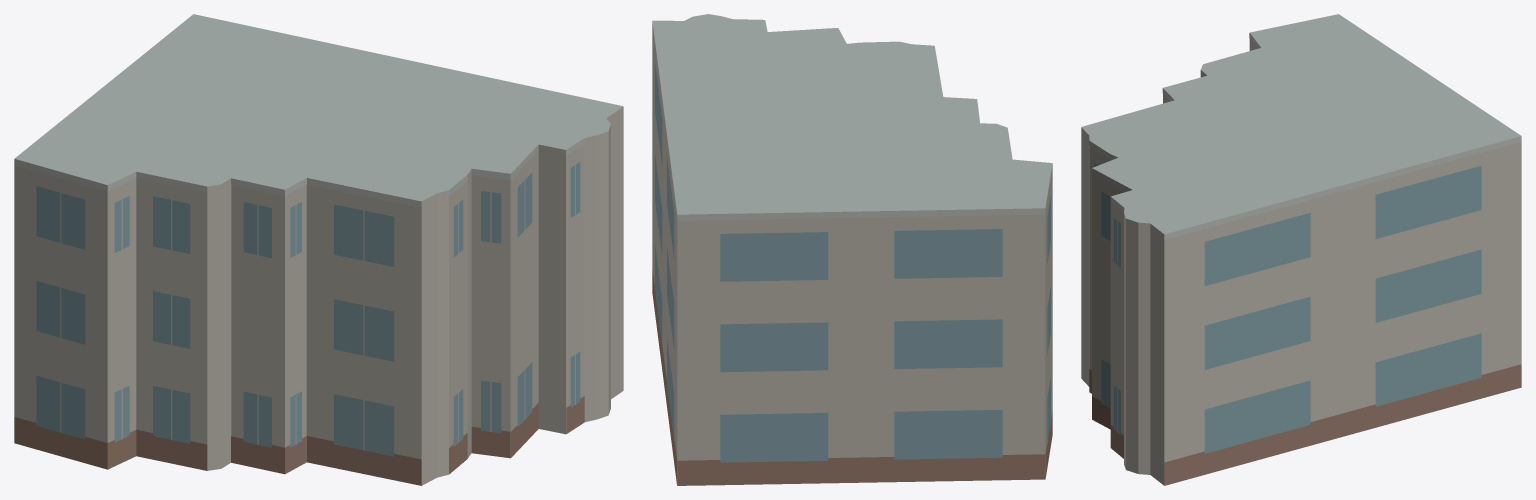
The model's file is survey-upis-32812422.glb.
3 views of the same model, side by side, from view 1: azimuth 30°, elevation 25°; view 2: azimuth 150°, elevation 25°; view 3: azimuth 270°, elevation 25° (orthographic). The views are drawn at different scales.
Parts seen in each view (by area): view 1: survey-upis-32812422.tmp; view 2: survey-upis-32812422.tmp; view 3: survey-upis-32812422.tmp.
Boxes of the visible parts, x1,y1,x2,y2 form: survey-upis-32812422.tmp: [14, 14, 623, 485]; survey-upis-32812422.tmp: [652, 14, 1052, 485]; survey-upis-32812422.tmp: [1081, 14, 1521, 485].
Bounding box in the file's own units: 20.12 × 10.7 × 16.99.
